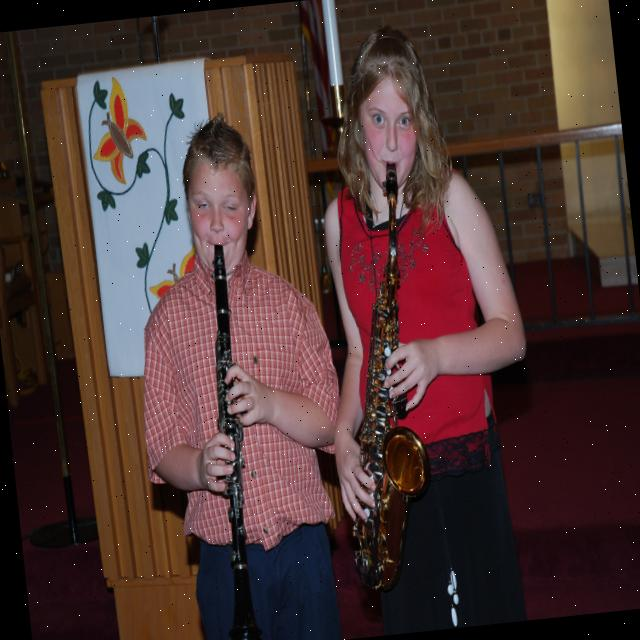clarinet: (187, 241, 274, 640)
saxophone: (305, 160, 445, 597)
